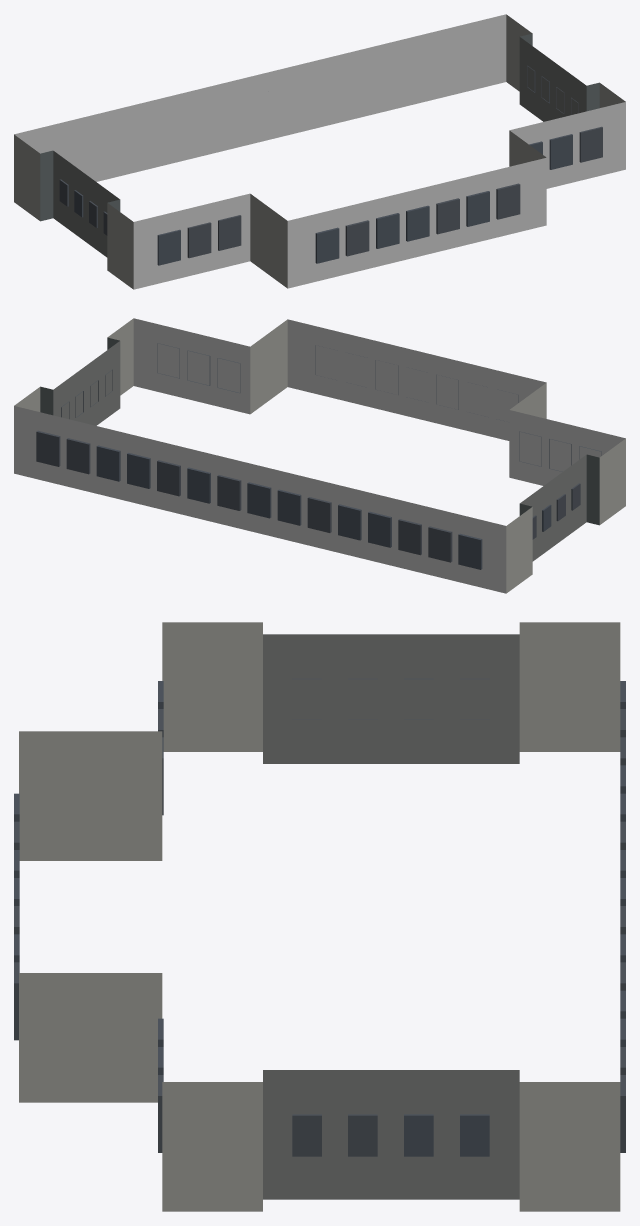
File: TB_CITY_Skysc_J_LowerBodyB_Gray.FBX
3 renders of one model, top to bottom at view 1: azimuth 30°, elevation 25°; view 2: azimuth 150°, elevation 25°; view 3: azimuth 270°, elevation 25°, orthographic. The views are drawn at different scales.
Parts seen in each view (by area): view 1: TB_CITY_Skysc_J_LowerBodyB_Gray; view 2: TB_CITY_Skysc_J_LowerBodyB_Gray; view 3: TB_CITY_Skysc_J_LowerBodyB_Gray.
Part boxes in pixels (bbox=[...]): TB_CITY_Skysc_J_LowerBodyB_Gray: bbox=[14, 14, 625, 289]; TB_CITY_Skysc_J_LowerBodyB_Gray: bbox=[14, 318, 625, 593]; TB_CITY_Skysc_J_LowerBodyB_Gray: bbox=[14, 622, 625, 1211].
Bounding box in the file's own units: 38 × 5 × 21.38.
